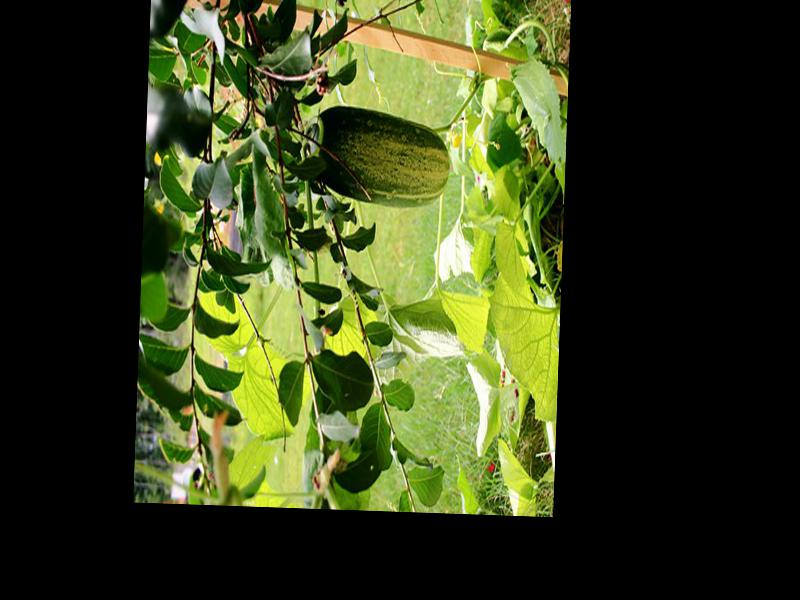Cucumber: (300, 103, 452, 206)
